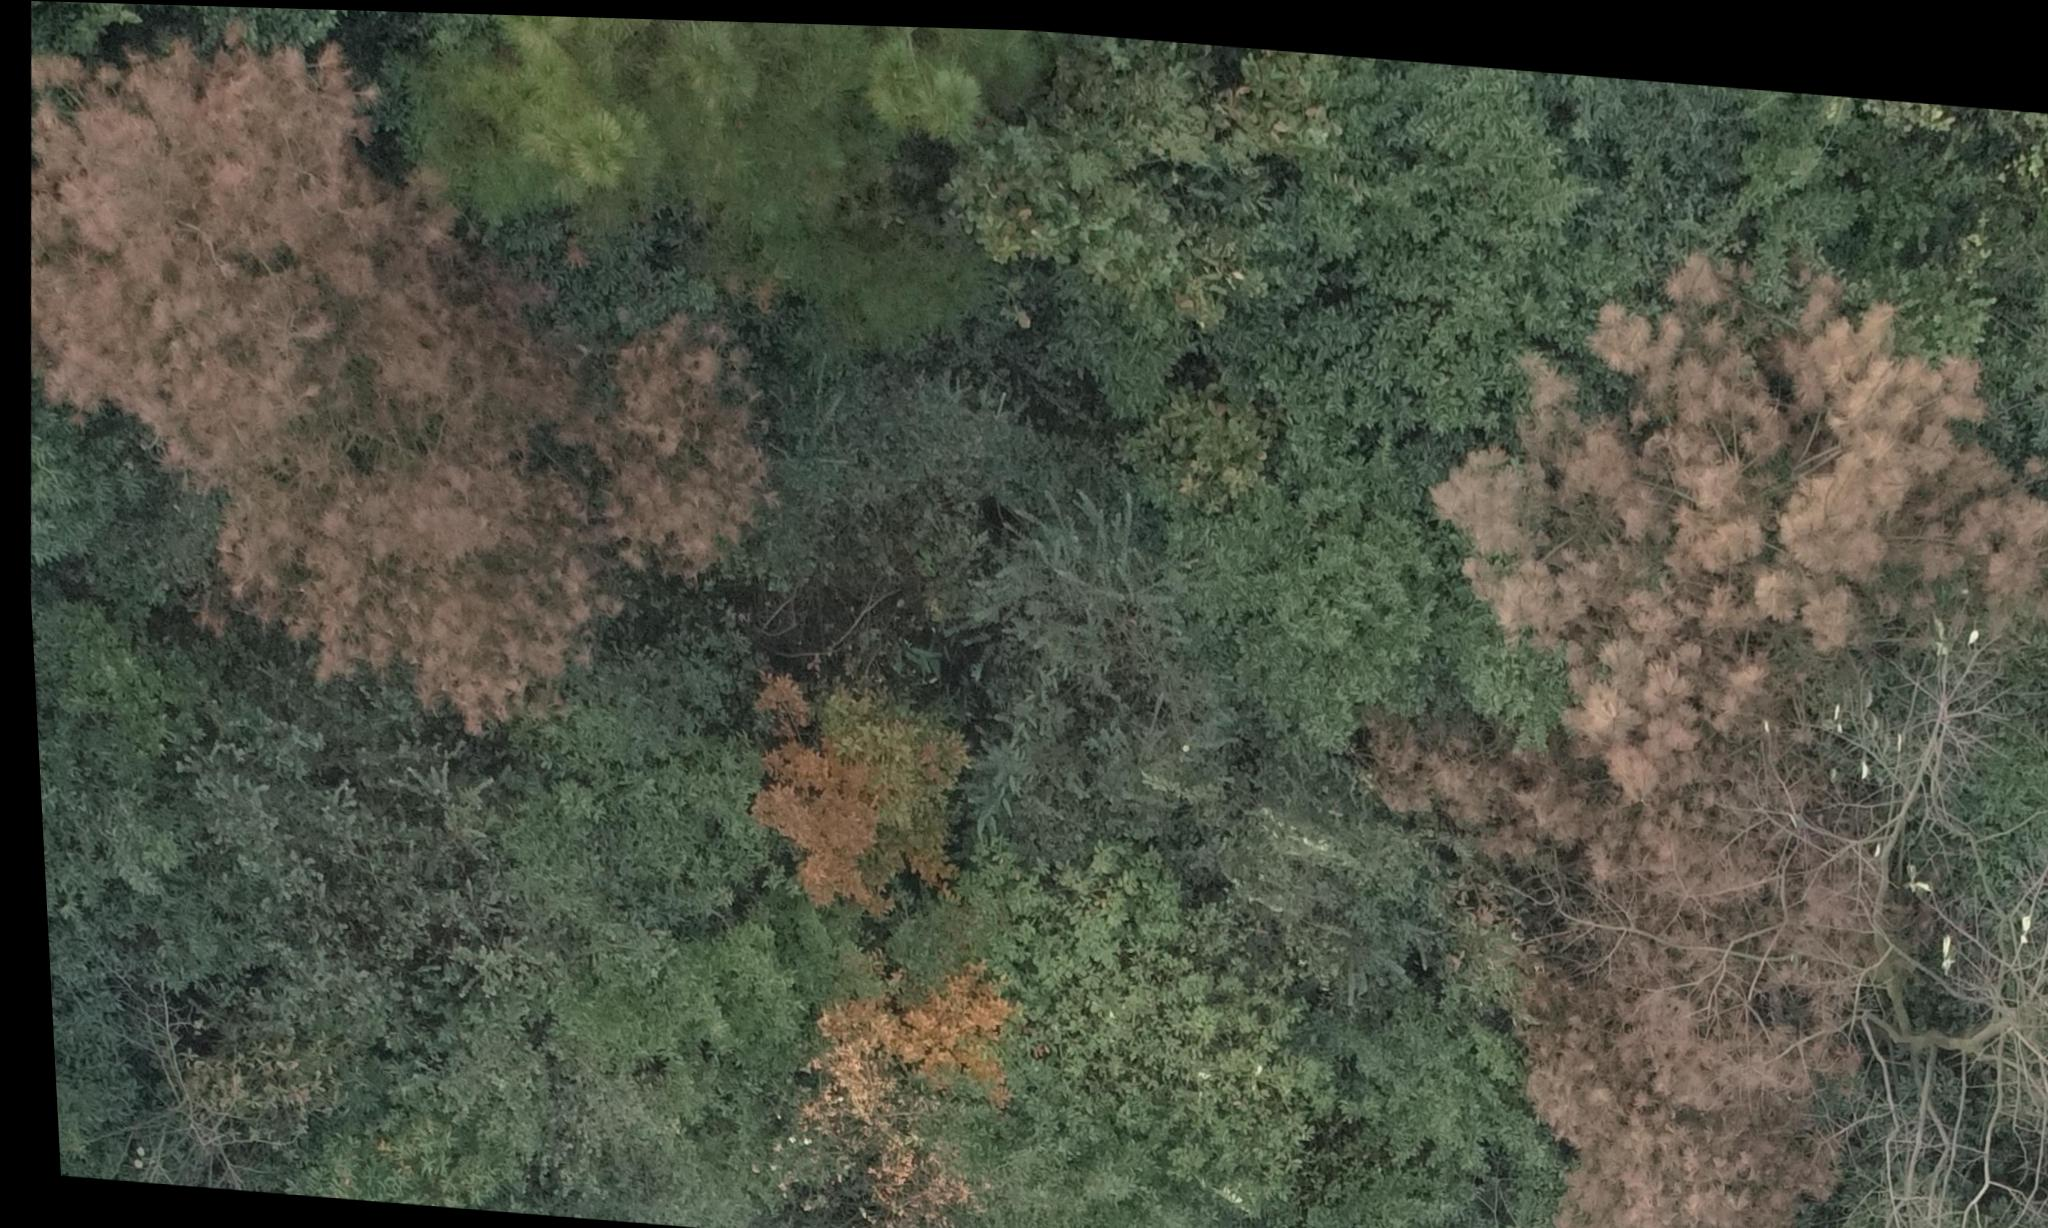heavy: (1313, 200, 2048, 1228), (6, 0, 810, 737)
